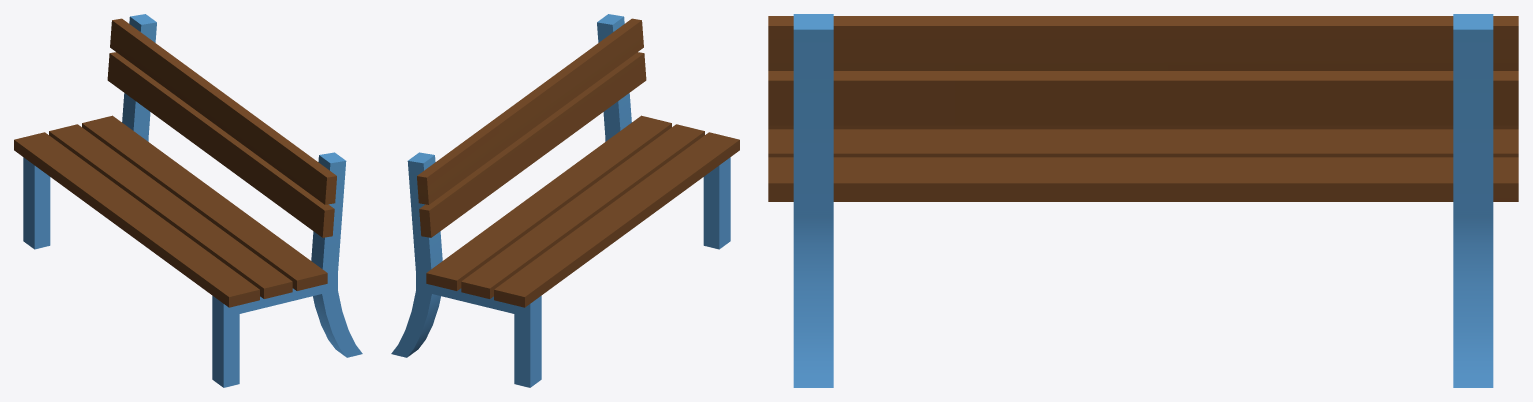
File: Bench_2_B.fbx
The picture shows the model from 3 angles, left to right: view 1: azimuth 30°, elevation 25°; view 2: azimuth 150°, elevation 25°; view 3: azimuth 270°, elevation 25°; orthographic projection. The views are drawn at different scales.
Parts seen in each view (by area): view 1: Bench_2_B; view 2: Bench_2_B; view 3: Bench_2_B.
Part boxes in pixels (x1,y1,x2,y2): Bench_2_B: [14, 14, 362, 387]; Bench_2_B: [391, 14, 739, 387]; Bench_2_B: [768, 14, 1518, 387].
Size of the model in its own units: 62.34 by 83.85 by 165.
